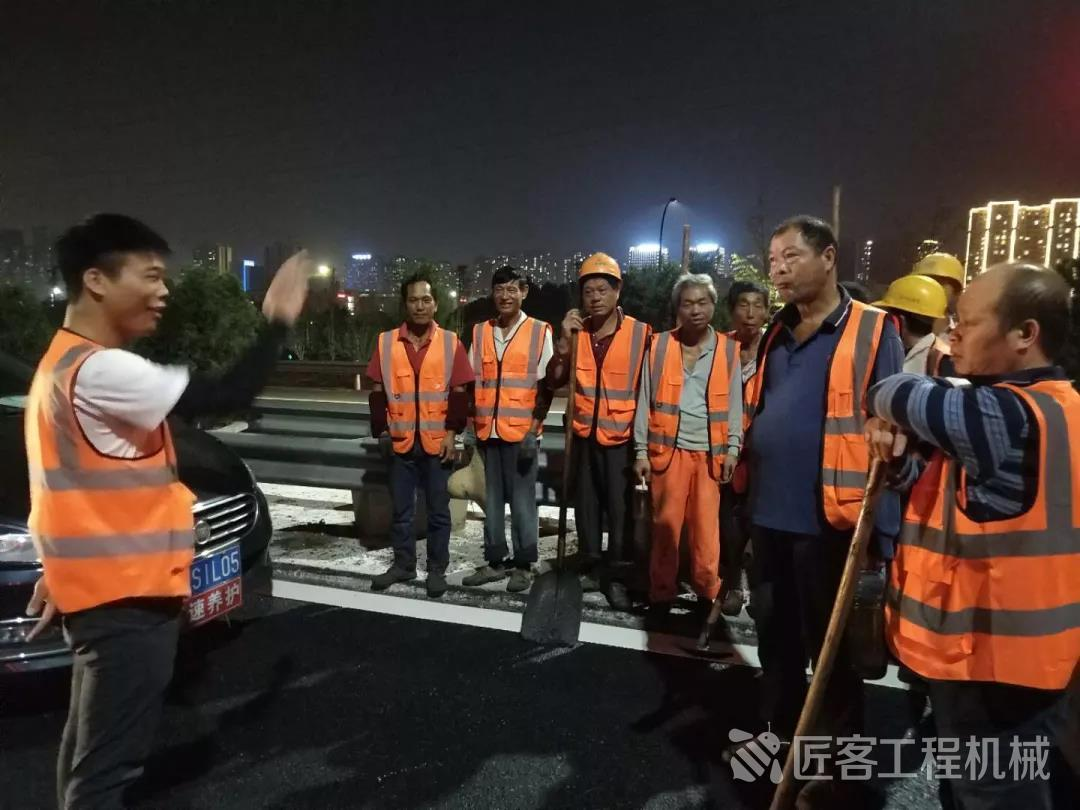head: (51, 208, 179, 342), (946, 257, 1074, 379), (764, 211, 841, 307), (667, 268, 721, 336), (724, 278, 771, 338), (398, 270, 441, 329), (489, 263, 530, 318)
ordinary_clothes: (741, 299, 896, 532)
person: (861, 255, 1080, 809), (21, 209, 200, 809), (742, 211, 904, 736), (546, 250, 652, 612), (362, 271, 476, 602), (650, 270, 744, 630), (460, 264, 554, 592)
reflective_vest: (877, 378, 1080, 694), (21, 326, 198, 616), (648, 328, 743, 476), (471, 314, 554, 444), (377, 327, 459, 457), (571, 315, 652, 446)
safety_helmet: (868, 275, 948, 346), (910, 249, 966, 314), (575, 249, 624, 318)
